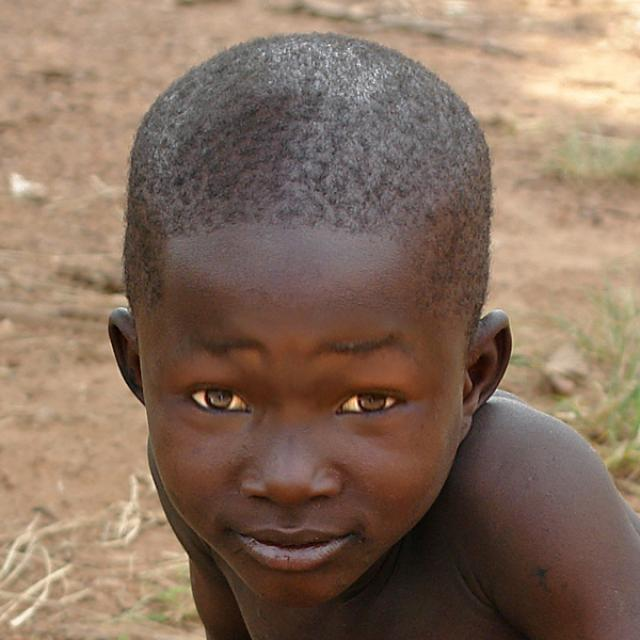face: (77, 52, 544, 614)
